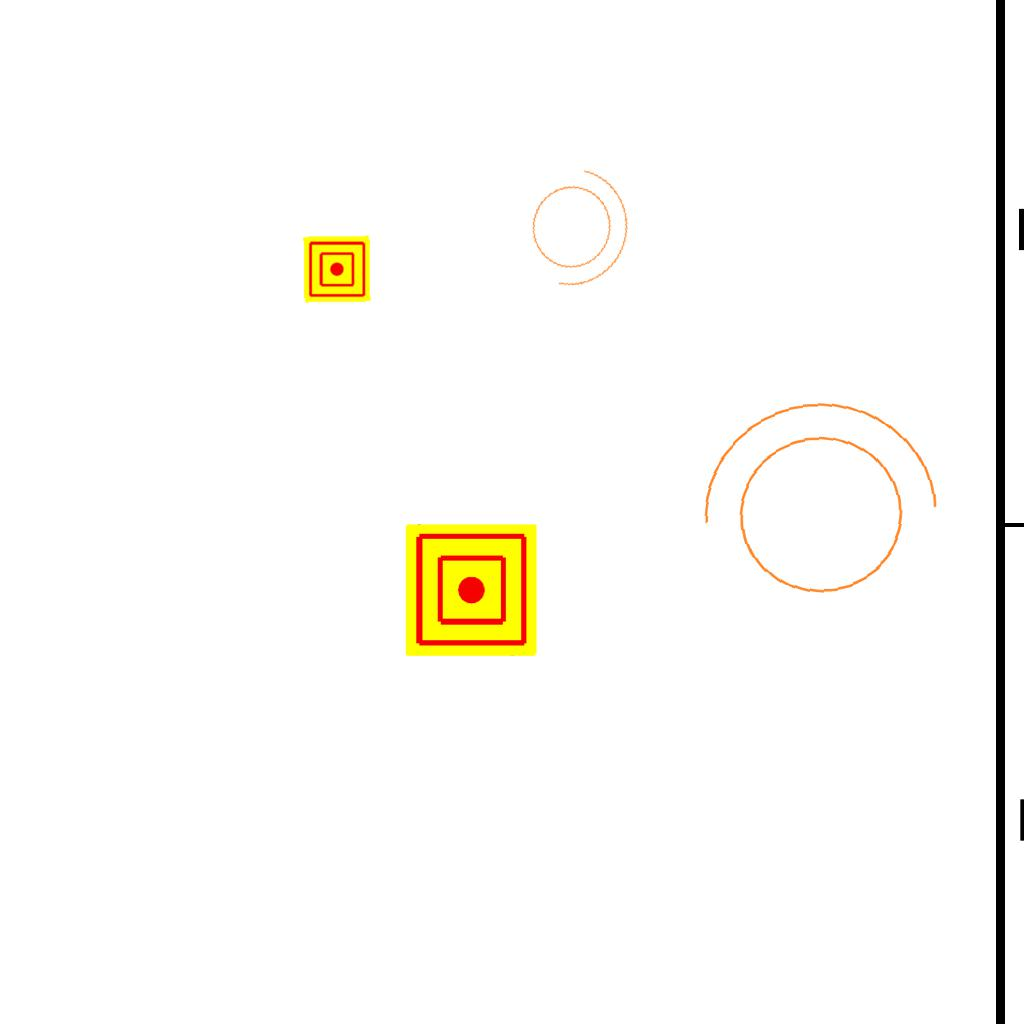NAM-Nichtautomatischer_Melder: (405, 524, 537, 656), (303, 235, 371, 303)
Scheinwerfer_fuer_Alarmbeleuchtung: (674, 384, 954, 627), (507, 148, 647, 302)
